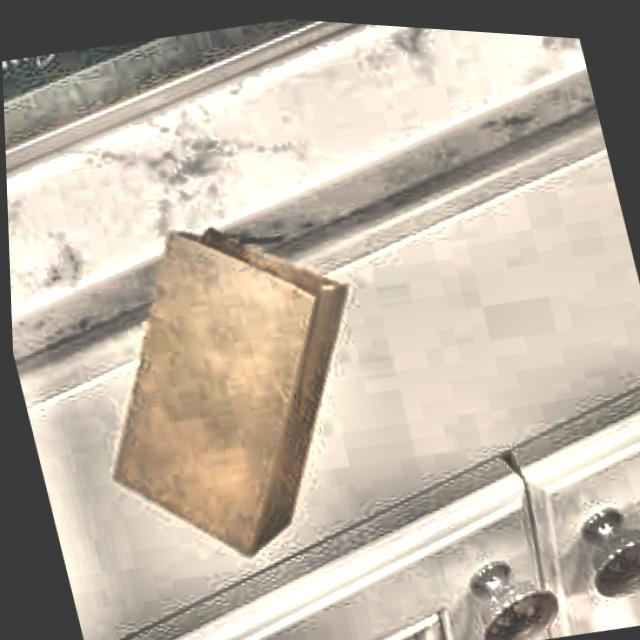Paper-bag: (40, 171, 412, 596)
